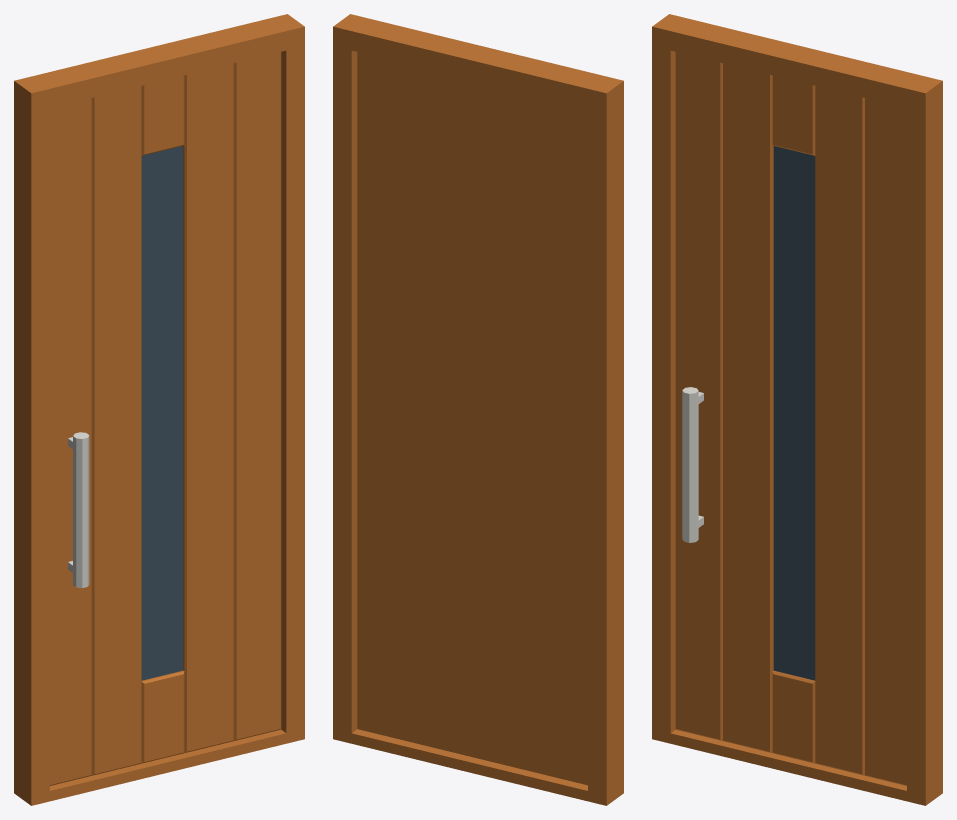
Rendered from SM_Opening_Door08423_WoodOrange_01.gltf.
3 views of the same model, side by side, from view 1: azimuth 30°, elevation 25°; view 2: azimuth 150°, elevation 25°; view 3: azimuth 330°, elevation 25° (orthographic).
Parts seen in each view (by area): view 1: SM_Opening_Door08423_WoodOrange_01; view 2: SM_Opening_Door08423_WoodOrange_01; view 3: SM_Opening_Door08423_WoodOrange_01.
Boxes of the visible parts, box(x1,y1,x2,y2) form: SM_Opening_Door08423_WoodOrange_01: box(14, 14, 304, 805); SM_Opening_Door08423_WoodOrange_01: box(333, 14, 623, 805); SM_Opening_Door08423_WoodOrange_01: box(652, 14, 942, 805).
Size of the model in its own units: 0.96 by 2.39 by 0.1631.
Materials: 1 (1 with a texture image).
